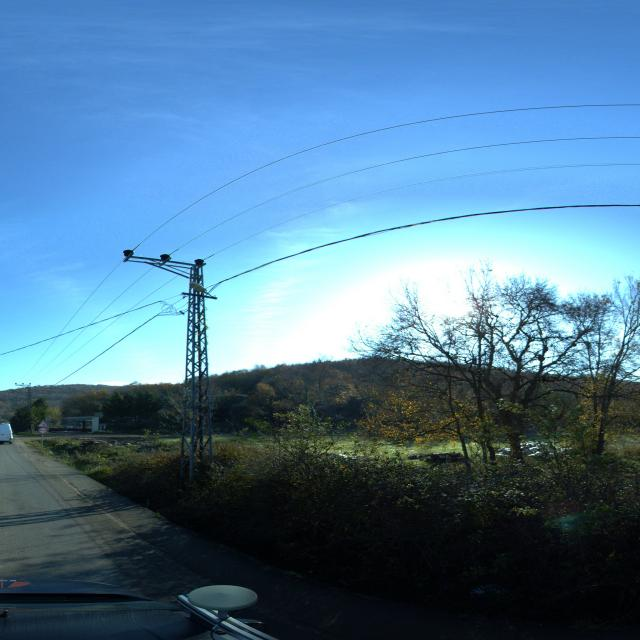Utility Pole Information Plate: (188, 409, 194, 419)
